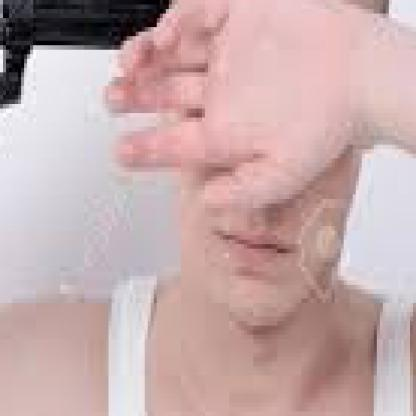gun: (0, 0, 173, 272)
